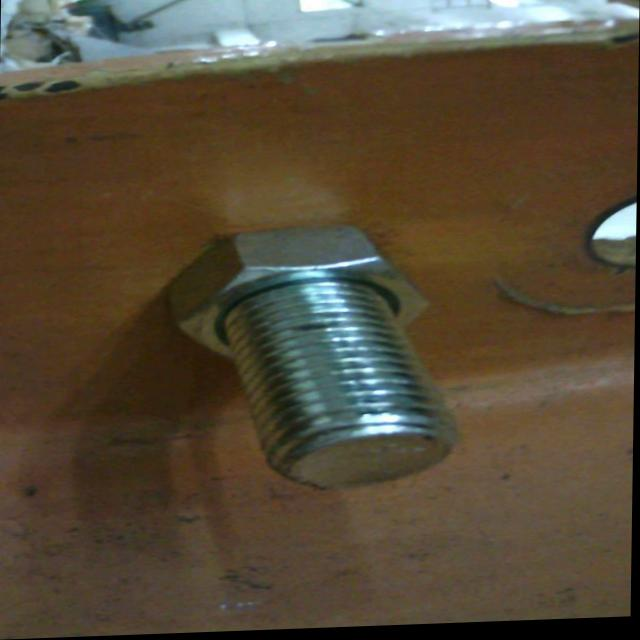Missing bolt: (587, 203, 638, 283)
Regular bolt: (168, 225, 463, 502)
